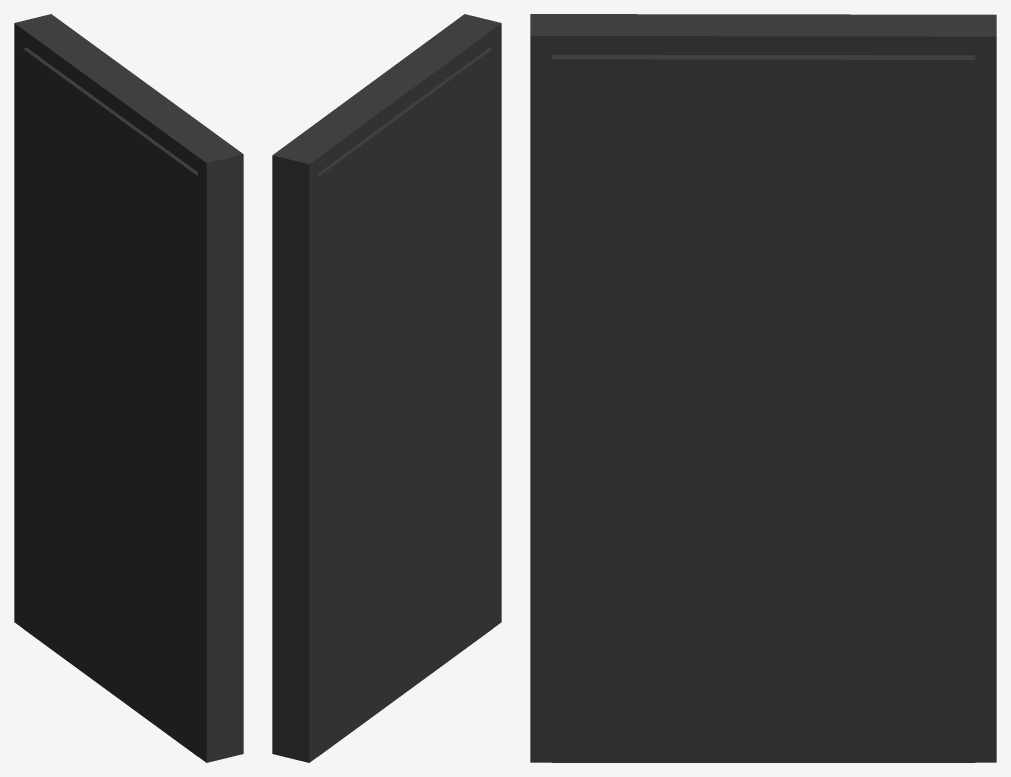
Rendered from door.gltf.
3 views of the same model, side by side, from view 1: azimuth 30°, elevation 25°; view 2: azimuth 150°, elevation 25°; view 3: azimuth 270°, elevation 25° (orthographic). The views are drawn at different scales.
Visible parts, largest first — view 1: Door, DoorFrame; view 2: Door, DoorFrame; view 3: Door, DoorFrame.
Boxes of the visible parts, x1=… form: Door: x1=23, y1=48, x2=197, y2=756; DoorFrame: x1=14, y1=14, x2=243, y2=762; Door: x1=318, y1=48, x2=492, y2=756; DoorFrame: x1=272, y1=14, x2=501, y2=762; Door: x1=551, y1=54, x2=975, y2=762; DoorFrame: x1=530, y1=14, x2=996, y2=762.
Size of the model in its own units: 0.2 by 3.1 by 1.8.
Materials: 1 (1 with a texture image).
